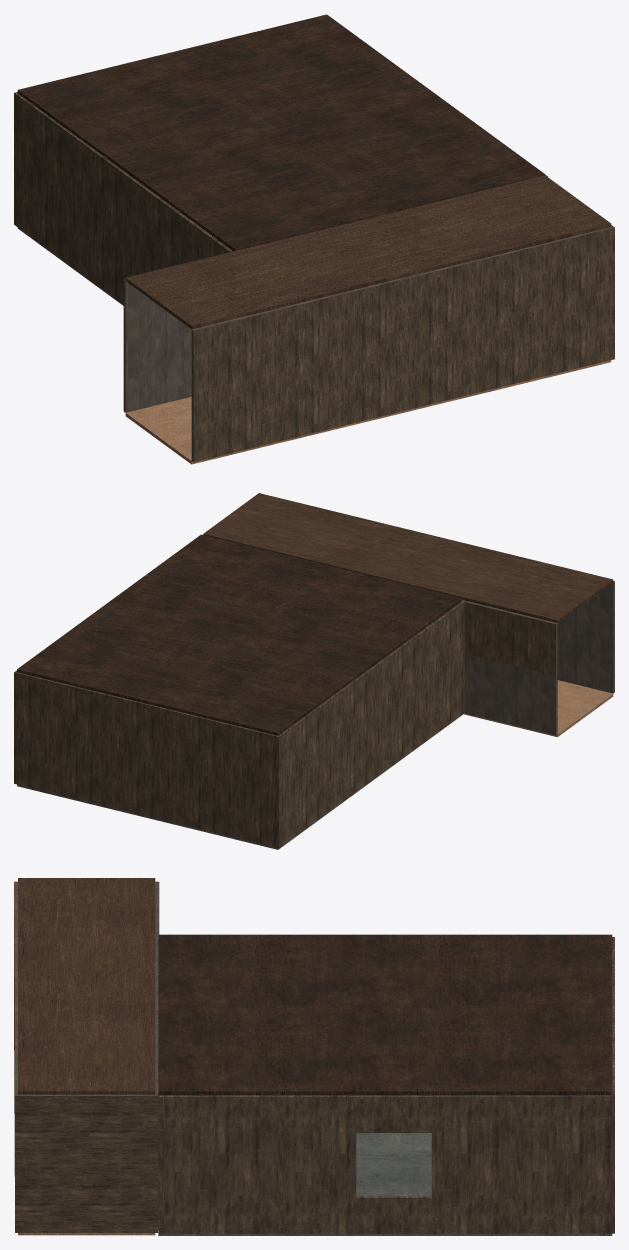
The model's file is Room 2 walls.fbx.
3 views of the same model, one above another, from view 1: azimuth 30°, elevation 25°; view 2: azimuth 150°, elevation 25°; view 3: azimuth 270°, elevation 25° (orthographic). The views are drawn at different scales.
Visible parts, largest first — view 1: roof 2, Walls Gallery, Gallery Ceiling, Walls, Floor gllery; view 2: Walls, roof 2, Gallery Ceiling, Walls Gallery, Floor gllery, Floor.001; view 3: roof 2, Walls, Gallery Ceiling, Walls Gallery, Floor.001.
Part boxes in pixels (bbox=[...]): roof 2: bbox=[17, 14, 544, 251]; Walls Gallery: bbox=[123, 225, 614, 462]; Gallery Ceiling: bbox=[125, 175, 611, 329]; Walls: bbox=[14, 92, 547, 304]; Floor gllery: bbox=[125, 360, 611, 464]; Walls: bbox=[14, 601, 464, 848]; roof 2: bbox=[17, 534, 462, 735]; Gallery Ceiling: bbox=[203, 493, 613, 622]; Walls Gallery: bbox=[462, 581, 614, 735]; Floor gllery: bbox=[463, 680, 613, 736]; Floor.001: bbox=[17, 716, 460, 849]; roof 2: bbox=[158, 934, 612, 1095]; Walls: bbox=[158, 937, 614, 1233]; Gallery Ceiling: bbox=[18, 878, 155, 1094]; Walls Gallery: bbox=[14, 881, 159, 1232]; Floor.001: bbox=[158, 1133, 612, 1235].
Size of the model in its own units: 13.2 by 4.12 by 15.57.
Materials: 7 (7 with a texture image).
